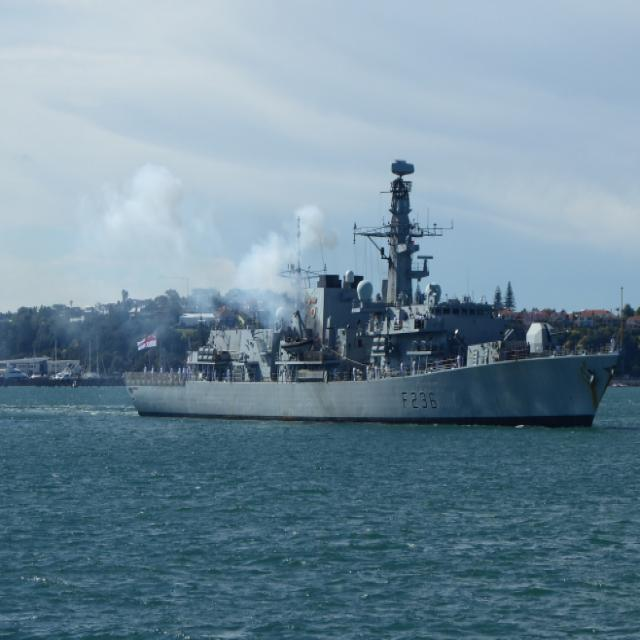Fragata: (129, 153, 624, 438)
